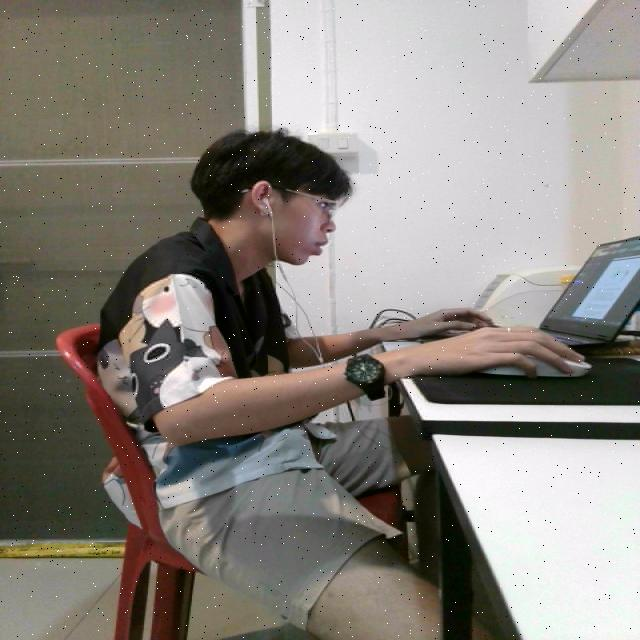Bad: (88, 125, 435, 556)
